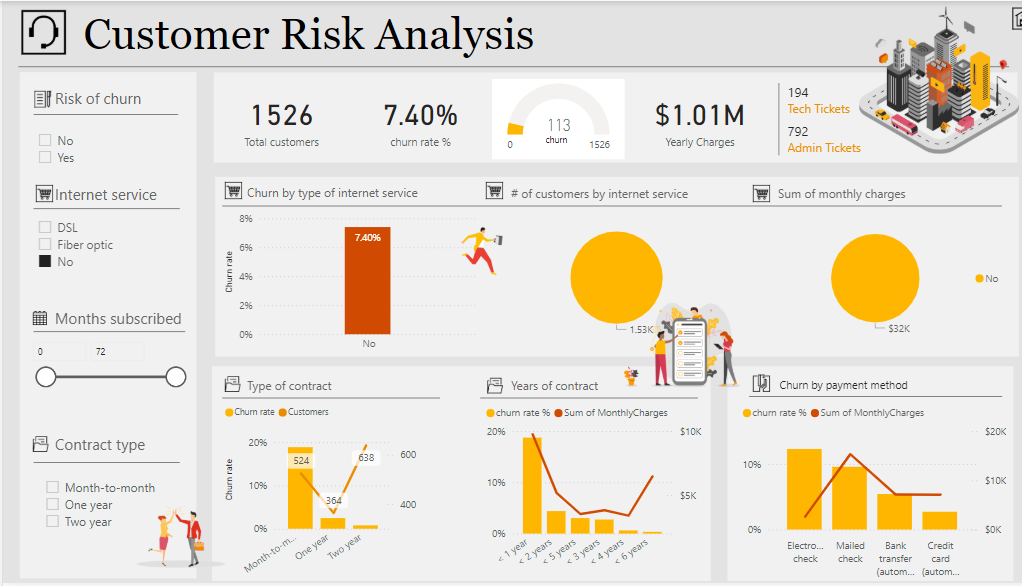

This screenshot's page, from the dashboard's own definition file:
{"tool":"powerbi","page":{"name":"Customer Risk Analysis","canvas":[1280,720],"ordinal":2},"visuals":[{"type":"basicShape","box":[249.8,87.8,1013.8,113.8],"z":0},{"type":"basicShape","box":[892.2,448.5,360.8,271],"z":1000},{"type":"basicShape","box":[251.8,448.5,628.9,271],"z":2000},{"type":"textbox","box":[94.5,4.8,1167.1,75.2],"z":3000},{"type":"basicShape","box":[9,61,1244.3,40.1],"z":4000},{"type":"basicShape","box":[251.8,214.2,1013.8,226.7],"z":5000},{"type":"basicShape","box":[18.3,81,222.8,638.6],"z":6000},{"type":"card","fields":{"Values":["Count(churn.customerID)"]},"box":[261.4,89,164.9,113.8],"z":7000},{"type":"gauge","fields":{"MaxValue":["CountNonNull(churn.customerID)"],"Y":["churn.Count of Churn for Yes"]},"box":[603.8,96.2,164,99.4],"z":8000},{"type":"slicer","fields":{"Values":["churn.Contract"]},"box":[40.5,584.5,178.4,79.1],"z":9000},{"type":"card","fields":{"Values":["Sum(churn.TotalCharges)"]},"box":[778.4,89,164.9,113.8],"z":10000},{"type":"slicer","fields":{"Values":["churn.Churn"]},"box":[31.8,156.3,173.6,57.9],"z":11000},{"type":"image","box":[557.5,242.1,66.6,129.3],"z":12000},{"type":"image","box":[150.5,610.6,136,105.1],"z":13000},{"type":"slicer","title":"Number of months subscribed","fields":{"Values":["churn.tenure"]},"box":[24.1,410.9,210.3,70.4],"z":14000},{"type":"image","box":[17.4,4.8,67.5,65.6],"z":15000},{"type":"textbox","box":[59.8,102.2,174.6,40.5],"z":16000},{"type":"basicShape","box":[28,120.6,198.7,39.5],"z":17000},{"type":"textbox","box":[59.8,374.3,185.2,39.5],"z":18000},{"type":"basicShape","box":[28,389.7,207.4,38.6],"z":19000},{"type":"basicShape","box":[28,549.8,200.6,39.5],"z":20000},{"type":"image","box":[31.8,374.3,28,34.7],"z":21000},{"type":"textbox","box":[59.8,529.6,159.2,40.5],"z":22000},{"type":"image","box":[31.8,105.1,34.7,30.9],"z":23000},{"type":"image","box":[31.8,524.7,29.9,45.3],"z":24000},{"type":"textbox","box":[59.8,221.2,180.4,40.5],"z":25000},{"type":"basicShape","box":[28,237,200.6,38.6],"z":26000},{"type":"slicer","fields":{"Values":["churn.InternetService"]},"box":[31.8,263.3,200.6,78.1],"z":27000},{"type":"card","fields":{"Values":["churn.churn rate %"]},"box":[437,89,156.3,113.8],"z":28000},{"type":"lineClusteredColumnComboChart","fields":{"Category":["churn.Contract"],"Y":["churn.churn rate %"],"Y2":["CountNonNull(churn.customerID)"]},"box":[269.1,489,246.9,230.5],"z":29000},{"type":"lineClusteredColumnComboChart","fields":{"Y":["churn.churn rate %"],"Y2":["Sum(churn.MonthlyCharges)"],"Category":["churn.Loyalty"]},"box":[591.3,489,276.8,230.5],"z":30000},{"type":"textbox","box":[296.1,220,300.9,40.5],"z":31000},{"type":"basicShape","box":[261.4,234.4,982.9,39.5],"z":32000},{"type":"clusteredColumnChart","fields":{"Category":["churn.InternetService"],"Y":["churn.churn rate %"]},"box":[269.1,242.1,322.2,198.7],"z":33000},{"type":"pieChart","fields":{"Y":["Sum(churn.MonthlyCharges)"],"Category":["churn.InternetService"]},"box":[949.1,264.3,295.2,154.3],"z":34000},{"type":"pieChart","fields":{"Category":["churn.InternetService"],"Y":["CountNonNull(churn.customerID)"]},"box":[622.2,261.4,270.1,160.1],"z":35000},{"type":"textbox","box":[954,221.9,283.6,40.5],"z":36000},{"type":"textbox","box":[622.2,221.9,285.5,40.5],"z":37000},{"type":"basicShape","box":[261.4,471.7,288.4,39.5],"z":38000},{"type":"textbox","box":[296.1,459.1,237.3,40.5],"z":39000},{"type":"textbox","box":[622.2,459.1,270.1,40.5],"z":40000},{"type":"basicShape","box":[579.7,471.7,288.4,39.5],"z":41000},{"type":"lineClusteredColumnComboChart","fields":{"Y":["churn.churn rate %"],"Y2":["Sum(churn.MonthlyCharges)"],"Category":["churn.PaymentMethod"]},"box":[907.7,489,336.6,230.5],"z":42000},{"type":"basicShape","box":[911.5,469.8,332.8,39.5],"z":43000},{"type":"textbox","box":[954.3,459.1,270.1,40.5],"z":44000},{"type":"multiRowCard","fields":{"Values":["Sum(churn.numTechTickets)","Sum(churn.numAdminTickets)"]},"box":[954,96.2,207.4,99.4],"z":45000},{"type":"image","box":[922.1,452.4,31.8,39.5],"z":46000},{"type":"image","box":[593.2,452.4,29.9,45.3],"z":47000},{"type":"image","box":[269.1,451.4,29.9,45.3],"z":48000},{"type":"image","box":[34.7,219.9,31.8,34.7],"z":49000},{"type":"image","box":[269.1,217,31.8,34.7],"z":50000},{"type":"image","box":[591.3,217,31.8,34.7],"z":51000},{"type":"image","box":[922.1,219.9,31.8,34.7],"z":52000},{"type":"textbox","box":[666.5,156.3,57.9,28.9],"z":53000},{"type":"image","box":[1053.2,0,207.7,194.7],"z":54000},{"type":"image","box":[1242,0,38,42.9],"z":55000},{"type":"image","box":[752.4,361.7,191,129.3],"z":56000}]}

Visuals, with their boxes in screenshot pixels (x1, y1, x2, y2), scaled from the page's 1280x720 canvas onto the 1022x586 screenshot:
basicShape: 199:71:1009:164
basicShape: 712:365:1000:585
basicShape: 201:365:703:585
textbox: 75:4:1007:65
basicShape: 7:50:1001:82
basicShape: 201:174:1011:359
basicShape: 15:66:193:585
card - Count(churn.customerID): 209:72:340:165
gauge - CountNonNull(churn.customerID) x churn.Count of Churn for Yes: 482:78:613:159
slicer - churn.Contract: 32:476:175:540
card - Sum(churn.TotalCharges): 622:72:753:165
slicer - churn.Churn: 25:127:164:174
image: 445:197:498:302
image: 120:497:229:583
"Number of months subscribed" slicer: 19:334:187:392
image: 14:4:68:57
textbox: 48:83:187:116
basicShape: 22:98:181:130
textbox: 48:305:196:337
basicShape: 22:317:188:349
basicShape: 22:447:183:480
image: 25:305:48:333
textbox: 48:431:175:464
image: 25:86:53:111
image: 25:427:49:464
textbox: 48:180:192:213
basicShape: 22:193:183:224
slicer - churn.InternetService: 25:214:186:278
card - churn.churn rate %: 349:72:474:165
lineClusteredColumnComboChart - churn.Contract x churn.churn rate %: 215:398:412:585
lineClusteredColumnComboChart - churn.churn rate % x Sum(churn.MonthlyCharges): 472:398:693:585
textbox: 236:179:477:212
basicShape: 209:191:993:223
clusteredColumnChart - churn.InternetService x churn.churn rate %: 215:197:472:359
pieChart - Sum(churn.MonthlyCharges) x churn.InternetService: 758:215:993:341
pieChart - churn.InternetService x CountNonNull(churn.customerID): 497:213:712:343
textbox: 762:181:988:214
textbox: 497:181:725:214
basicShape: 209:384:439:416
textbox: 236:374:426:407
textbox: 497:374:712:407
basicShape: 463:384:693:416
lineClusteredColumnComboChart - churn.churn rate % x Sum(churn.MonthlyCharges): 725:398:993:585
basicShape: 728:382:993:415
textbox: 762:374:978:407
multiRowCard - Sum(churn.numTechTickets) x Sum(churn.numAdminTickets): 762:78:927:159
image: 736:368:762:400
image: 474:368:498:405
image: 215:367:239:404
image: 28:179:53:207
image: 215:177:240:205
image: 472:177:498:205
image: 736:179:762:207
textbox: 532:127:578:151
image: 841:0:1007:158
image: 992:0:1021:35
image: 601:294:753:400
